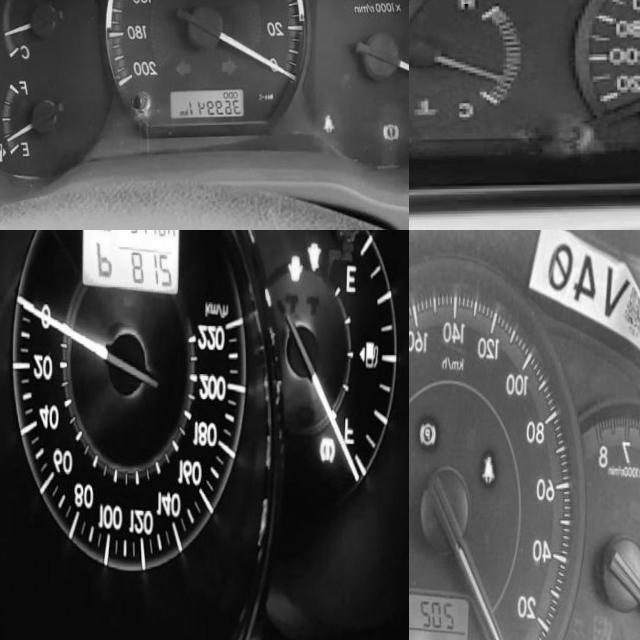Seat Belt: (306, 243, 321, 276), (482, 455, 496, 486), (321, 115, 333, 137)
